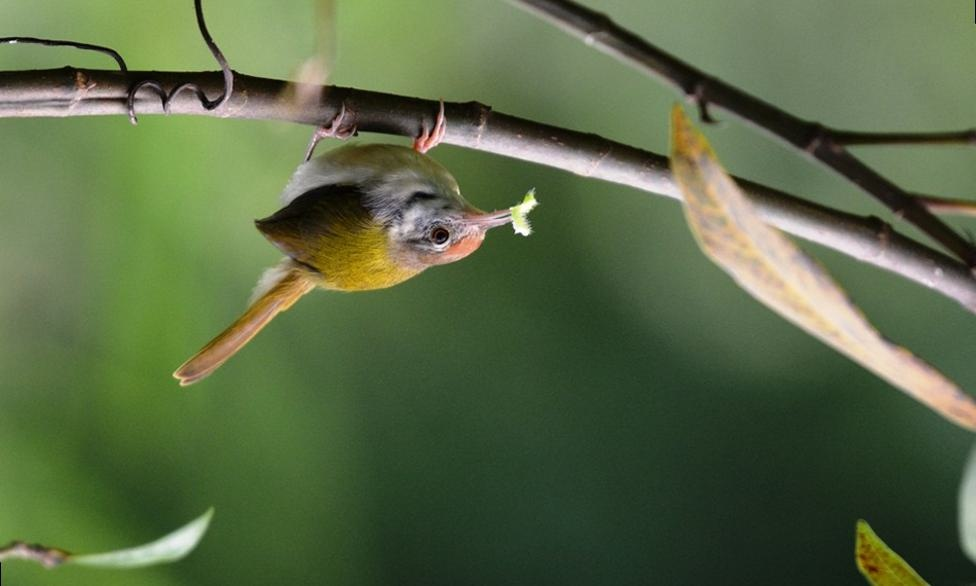tailorbird: (160, 118, 568, 388)
